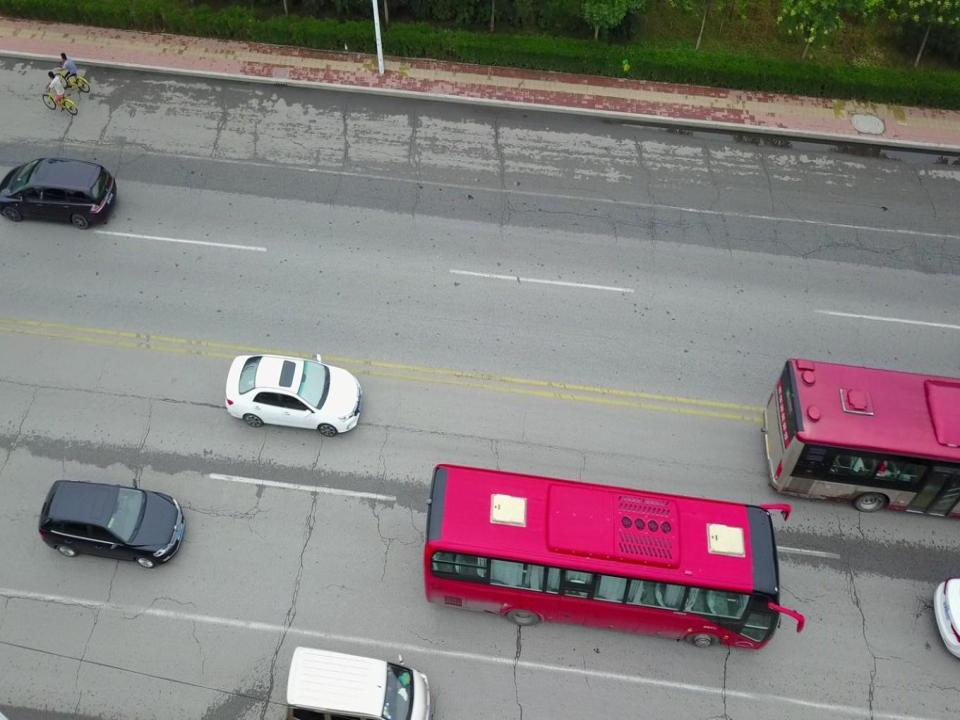bus: (422, 463, 805, 652), (763, 357, 960, 515)
car: (38, 479, 185, 569), (225, 350, 363, 437), (0, 156, 116, 228)
truck: (287, 646, 429, 720)
